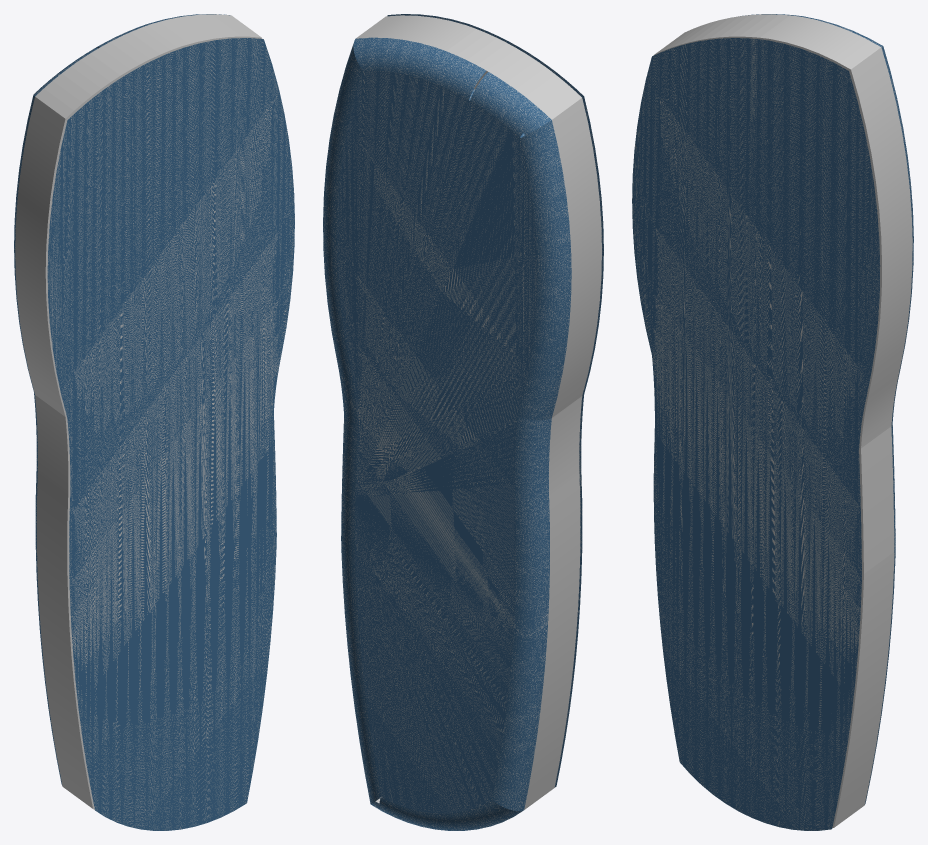
3 renders of one model, left to right at view 1: azimuth 30°, elevation 25°; view 2: azimuth 150°, elevation 25°; view 3: azimuth 330°, elevation 25°, orthographic.
Visible parts, largest first — view 1: mesh1_mesh1-geometry, mesh2_mesh2-geometry; view 2: mesh2_mesh2-geometry, mesh1_mesh1-geometry; view 3: mesh1_mesh1-geometry, mesh2_mesh2-geometry.
Boxes of the visible parts, bbox=[...] form: mesh1_mesh1-geometry: bbox=[47, 38, 294, 830]; mesh2_mesh2-geometry: bbox=[14, 14, 262, 809]; mesh2_mesh2-geometry: bbox=[323, 15, 601, 830]; mesh1_mesh1-geometry: bbox=[387, 14, 603, 787]; mesh1_mesh1-geometry: bbox=[632, 38, 880, 830]; mesh2_mesh2-geometry: bbox=[654, 14, 913, 827].
Bounding box in the file's own units: 0.3127 × 0.9451 × 0.0944.
